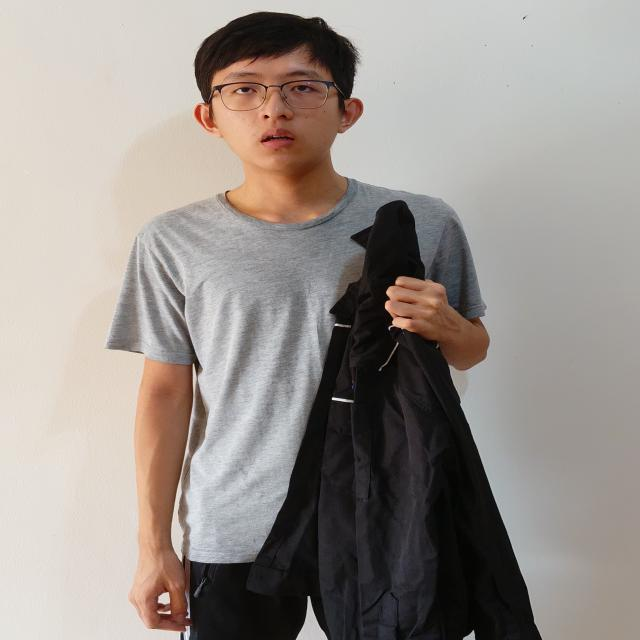person_without_labcoat: (105, 12, 541, 640)
